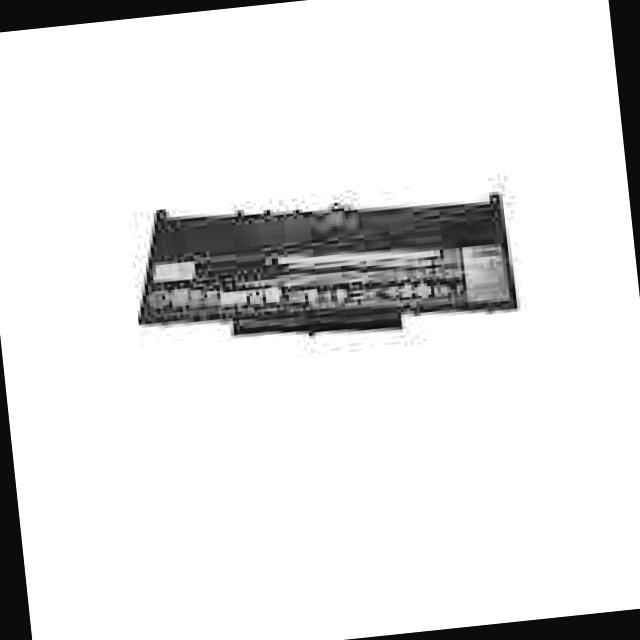Battery: (121, 178, 529, 372)
